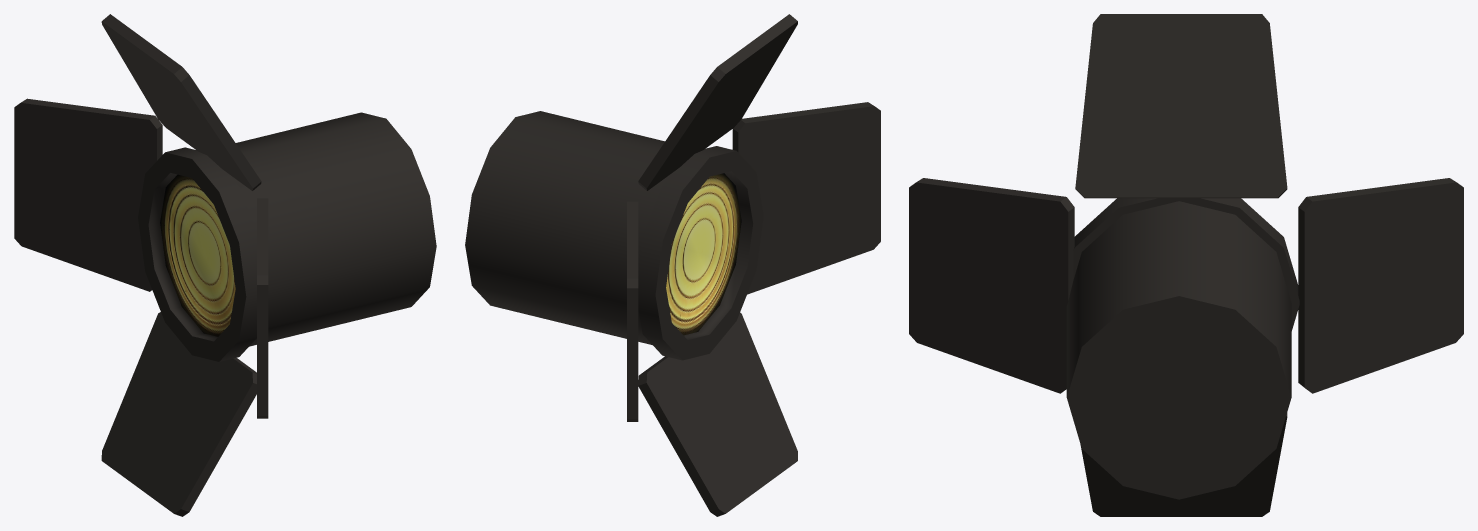
File: GYM_Studio_Light_3.fbx
3 renders of one model, left to right at view 1: azimuth 30°, elevation 25°; view 2: azimuth 150°, elevation 25°; view 3: azimuth 270°, elevation 25°, orthographic. The views are drawn at different scales.
Parts seen in each view (by area): view 1: GYM_Studio_Light_3; view 2: GYM_Studio_Light_3; view 3: GYM_Studio_Light_3.
Boxes of the visible parts, box(x1,y1,x2,y2) form: GYM_Studio_Light_3: box(14, 14, 436, 516); GYM_Studio_Light_3: box(465, 14, 880, 516); GYM_Studio_Light_3: box(909, 14, 1463, 516).
Bounding box in the file's own units: 0.5285 × 0.9183 × 0.9183.
Materials: 2 (1 with a texture image).
